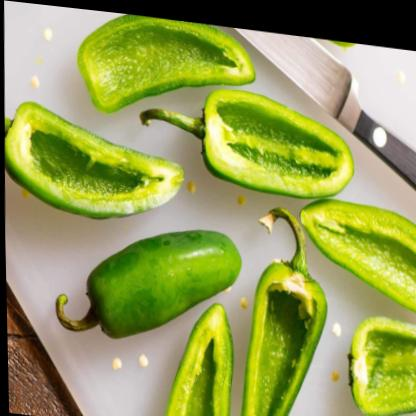--: (52, 203, 252, 367), (133, 74, 374, 199), (2, 94, 195, 236), (72, 6, 266, 134), (230, 196, 341, 416)
